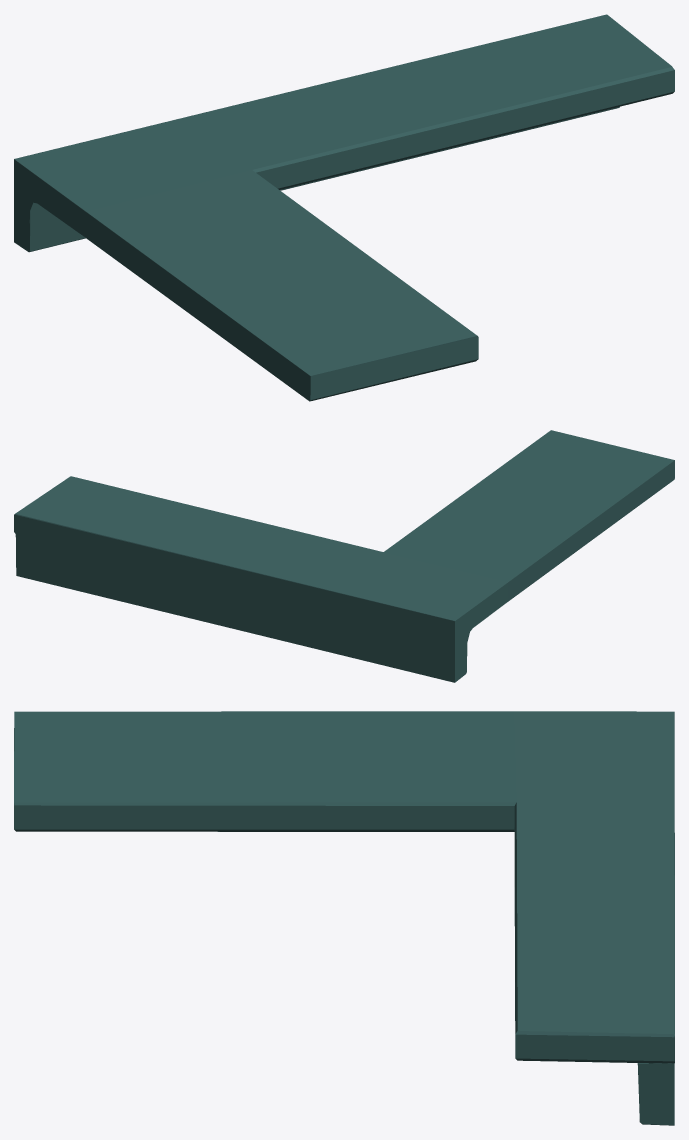
Rendered from estante.fbx.
The picture shows the model from 3 angles, top to bottom: view 1: azimuth 30°, elevation 25°; view 2: azimuth 150°, elevation 25°; view 3: azimuth 270°, elevation 25°; orthographic projection. The views are drawn at different scales.
Visible parts, largest first — view 1: estante; view 2: estante; view 3: estante.
Boxes of the visible parts, bbox=[...] form: estante: bbox=[14, 14, 674, 401]; estante: bbox=[14, 430, 674, 682]; estante: bbox=[14, 711, 674, 1125].
Size of the model in its own units: 163 by 21.94 by 141.
